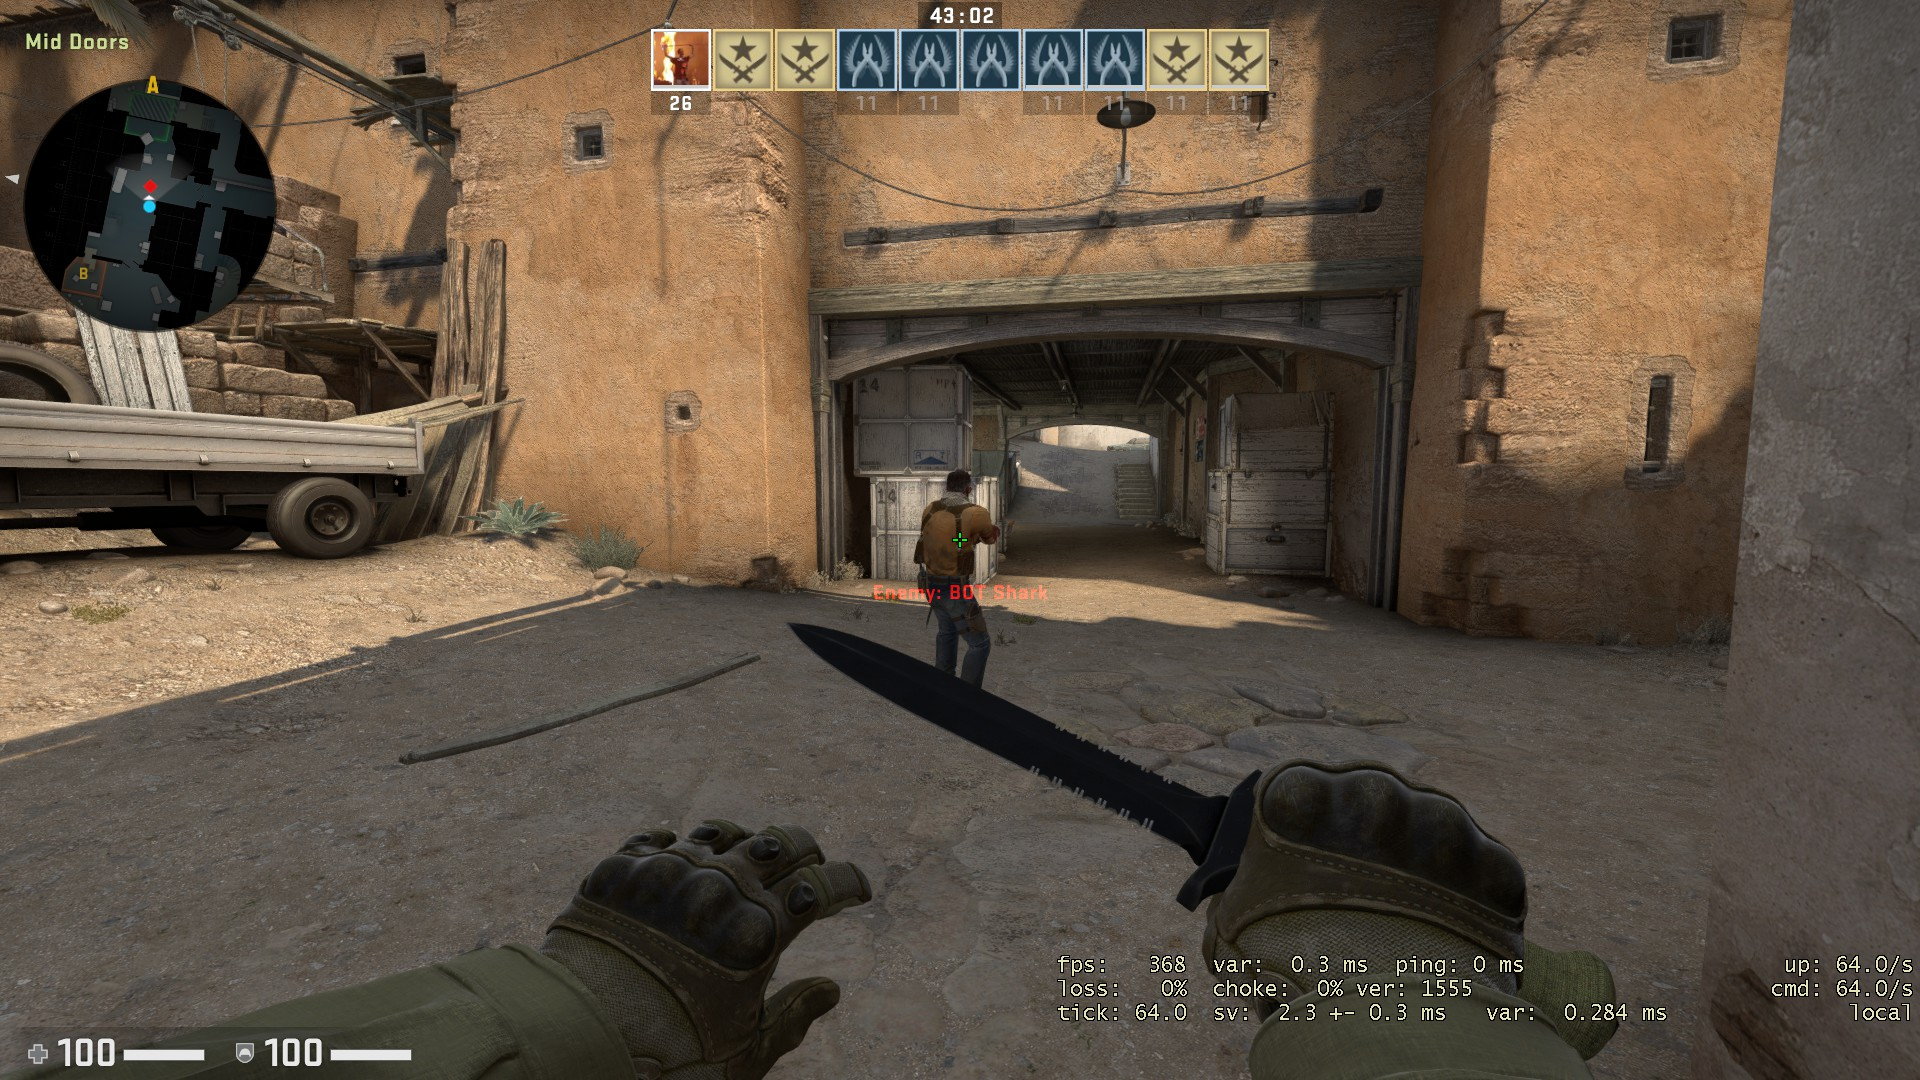player: (909, 464, 1002, 706)
